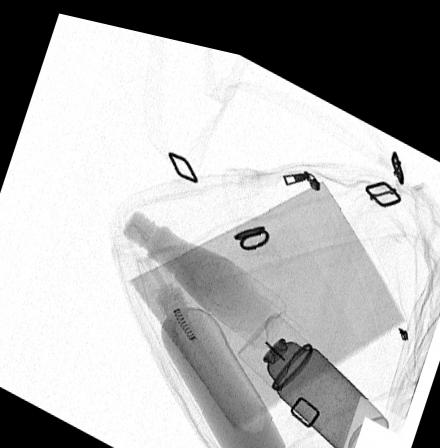Sprayer: (235, 298, 387, 447)
